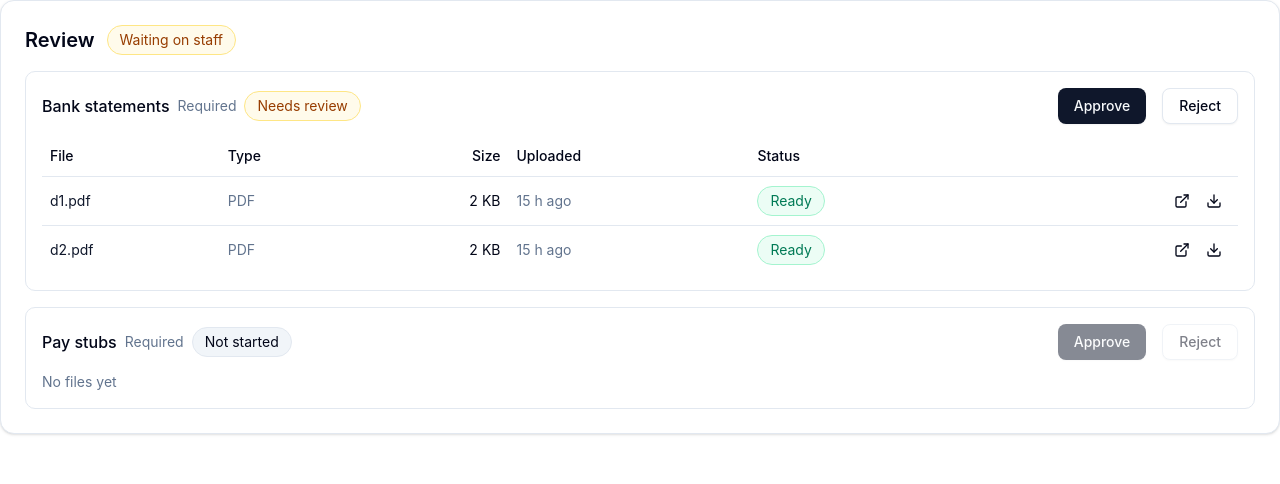
Scenario: ReviewPanel › explains a 409 on approve with the code in muted text
This screenshot has width=1280, height=484.
Step 1. Click the button "Approve" in the row of "Needs review" → (1102, 106), box [1058, 88, 1146, 124]
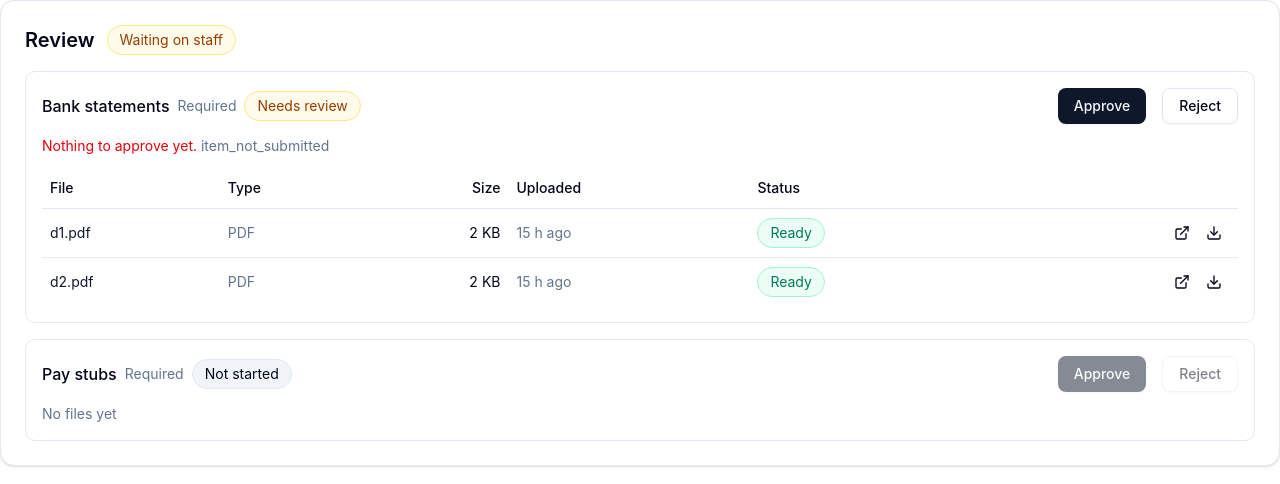
expect the text "item_not_submitted" is shown: met, box [201, 137, 329, 154]
